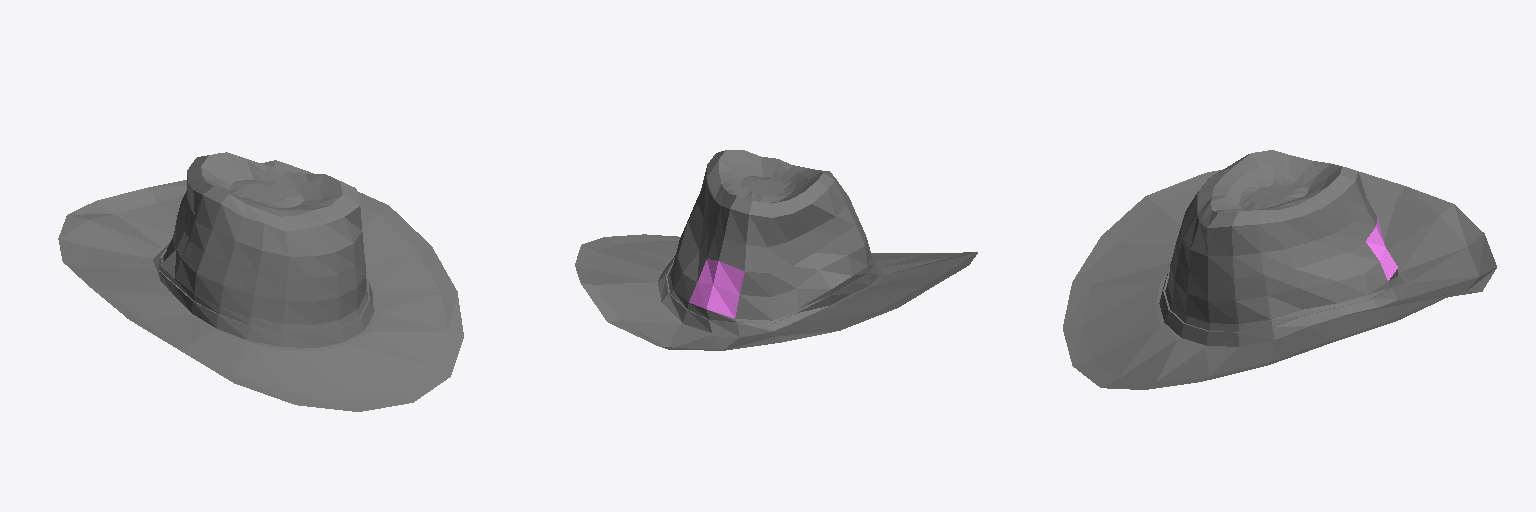
Rendered from hat.obj.
The picture shows the model from 3 angles: view 1: azimuth 30°, elevation 25°; view 2: azimuth 150°, elevation 25°; view 3: azimuth 270°, elevation 25°; orthographic projection.
Parts seen in each view (by area): view 1: hat_group1; view 2: hat_group1; view 3: hat_group1.
Part boxes in pixels (left/top/right/bottom): hat_group1: left=58, top=152, right=463, bottom=411; hat_group1: left=575, top=150, right=977, bottom=350; hat_group1: left=1063, top=150, right=1496, bottom=389.
Bounding box in the file's own units: 45.65 × 21.59 × 50.7.